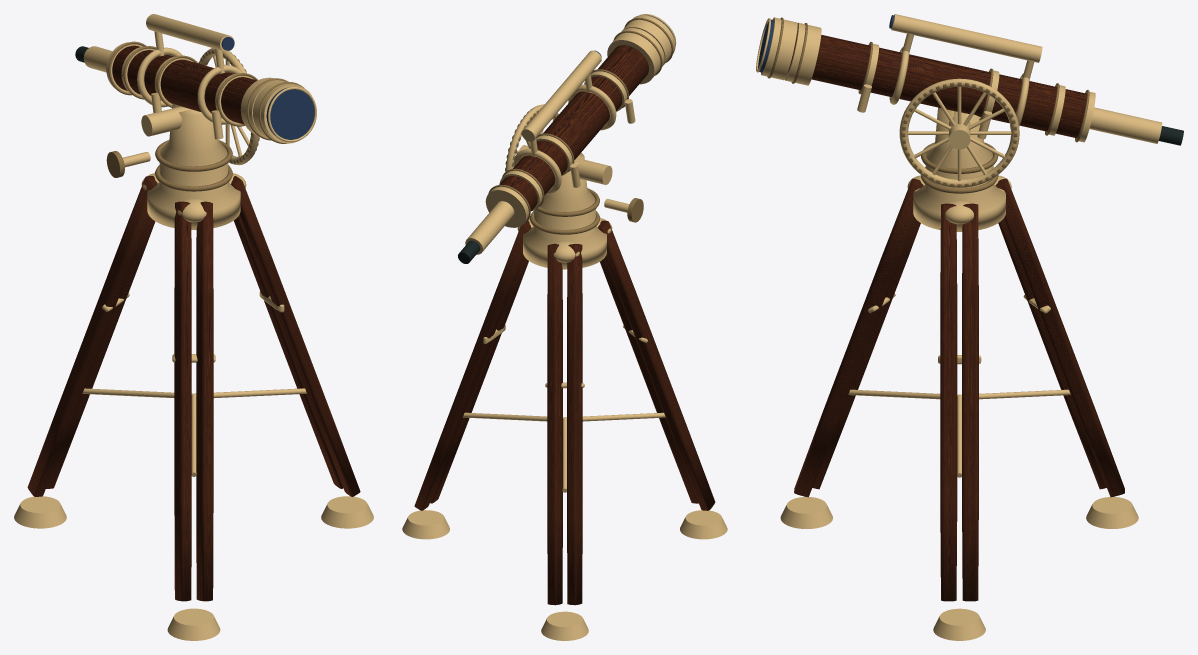
File: telescope.glb
3 views of the same model, side by side, from view 1: azimuth 30°, elevation 25°; view 2: azimuth 150°, elevation 25°; view 3: azimuth 270°, elevation 25° (orthographic). The views are drawn at different scales.
Parts seen in each view (by area): view 1: walnut_tripod__walnut, walnut_tripod__brass, brass_mount__darkBrass, optical_assembly__sapphire; view 2: walnut_tripod__walnut, walnut_tripod__brass, brass_mount__darkBrass; view 3: walnut_tripod__walnut, walnut_tripod__brass, brass_mount__darkBrass.
Boxes of the visible parts, x1,y1,x2,y2 form: walnut_tripod__walnut: (27,45,360,601); walnut_tripod__brass: (14,14,373,640); brass_mount__darkBrass: (106,41,303,191); optical_assembly__sapphire: (221,37,314,139); walnut_tripod__walnut: (414,45,715,605); walnut_tripod__brass: (402,14,727,640); brass_mount__darkBrass: (488,18,673,234); walnut_tripod__walnut: (788,31,1124,601); walnut_tripod__brass: (756,14,1162,640); brass_mount__darkBrass: (767,17,1089,193).
Size of the model in its own units: 1.03 by 1.93 by 1.38.
Materials: 5 (1 with a texture image).
